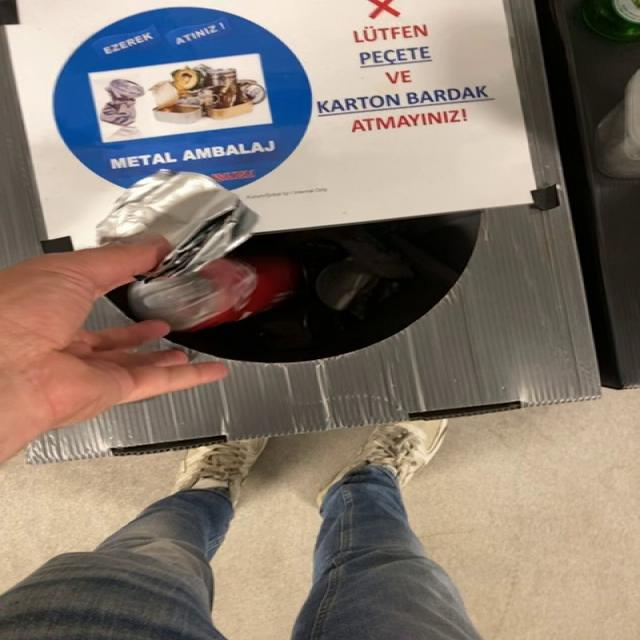bin: (1, 0, 600, 464)
metal: (128, 256, 300, 332)
